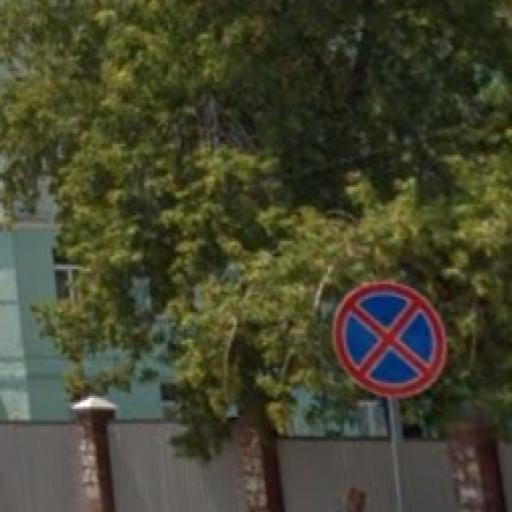traffic_sign: (332, 281, 447, 399)
